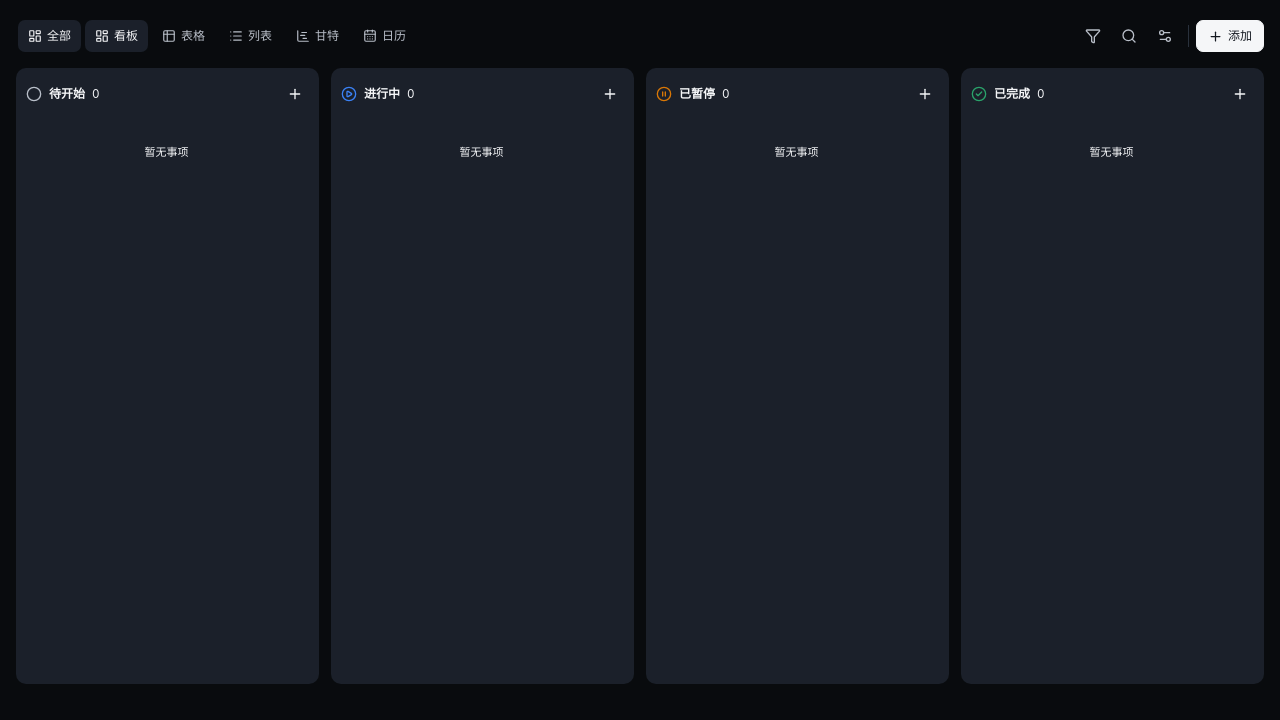
WorkBuddy cloud plan workspace › localizes every priority filter option
Click the button named "筛选事项": (1093, 36) [1077, 20, 1109, 52]
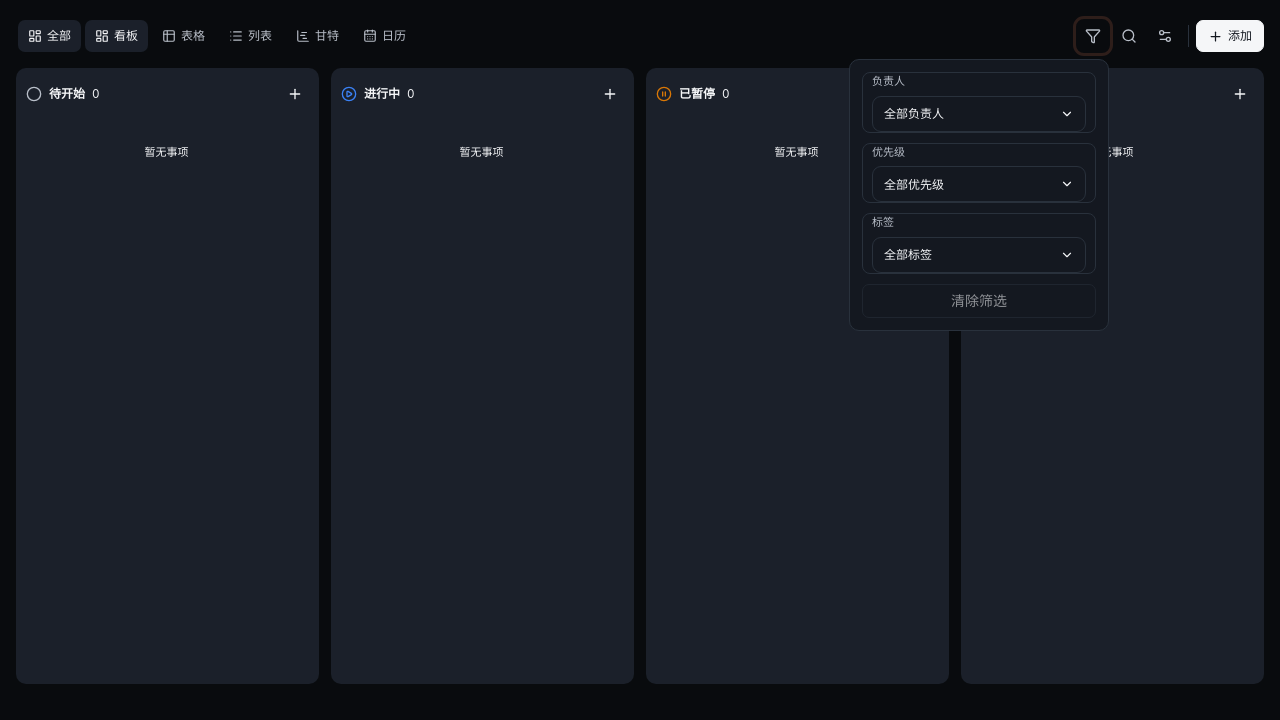
Click the button with aria-label "优先级：全部优先级": (979, 184) [872, 166, 1086, 202]
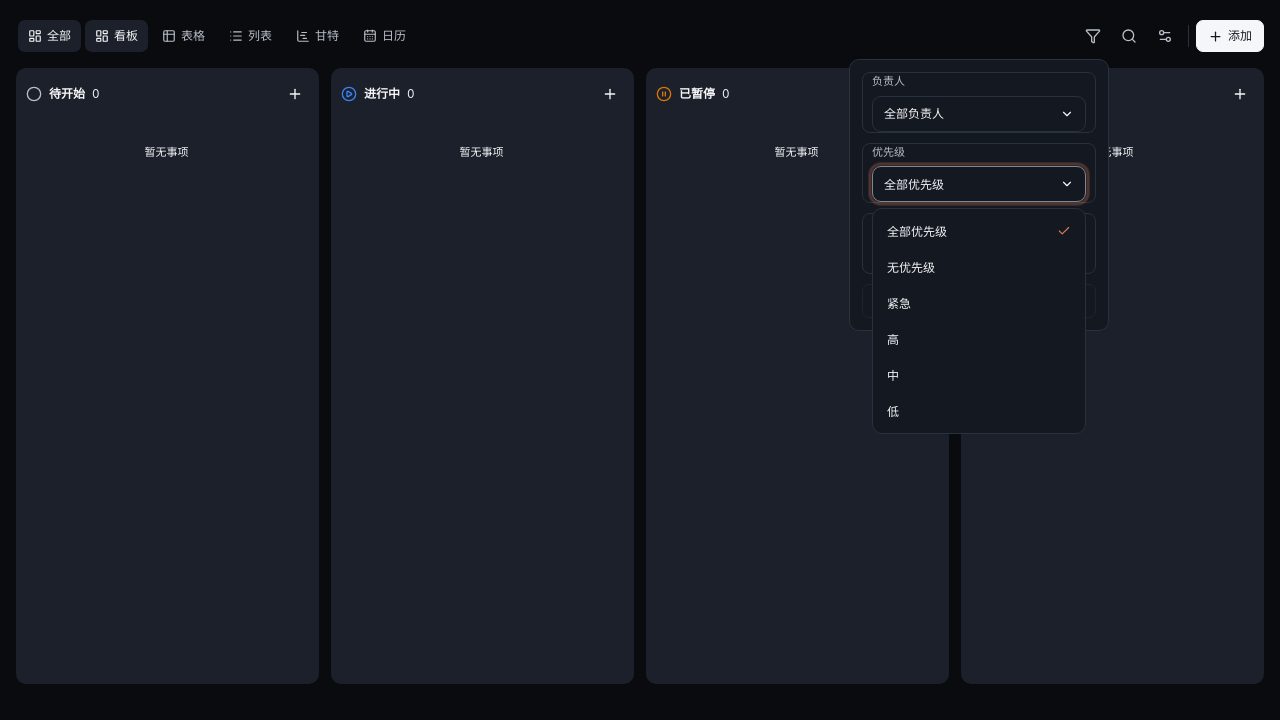
Now the option "全部优先级" is shown, box [878, 214, 1080, 248]
Now the option "无优先级" is shown, box [878, 250, 1080, 284]
Now the option "低" is shown, box [878, 394, 1080, 428]
